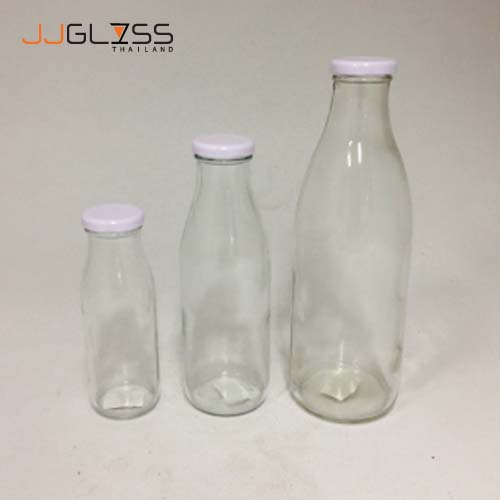glass_bottle: (287, 49, 417, 429), (173, 130, 280, 419), (76, 200, 166, 426)
